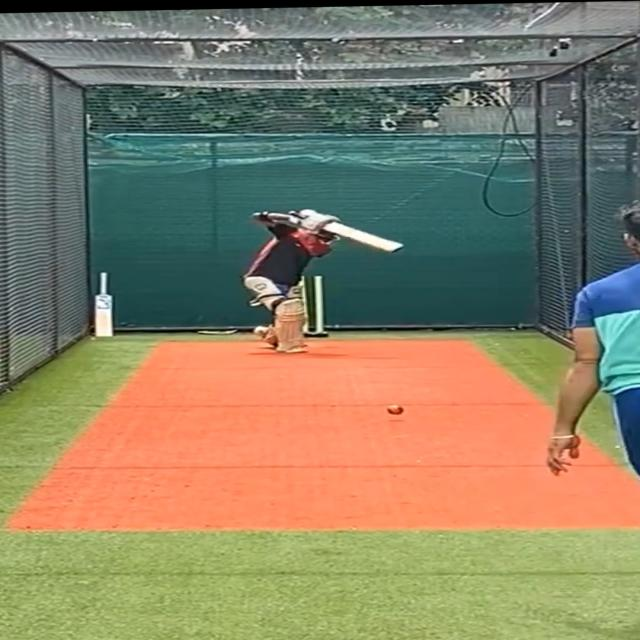ball: (383, 402, 407, 418)
stump: (295, 273, 328, 340)
